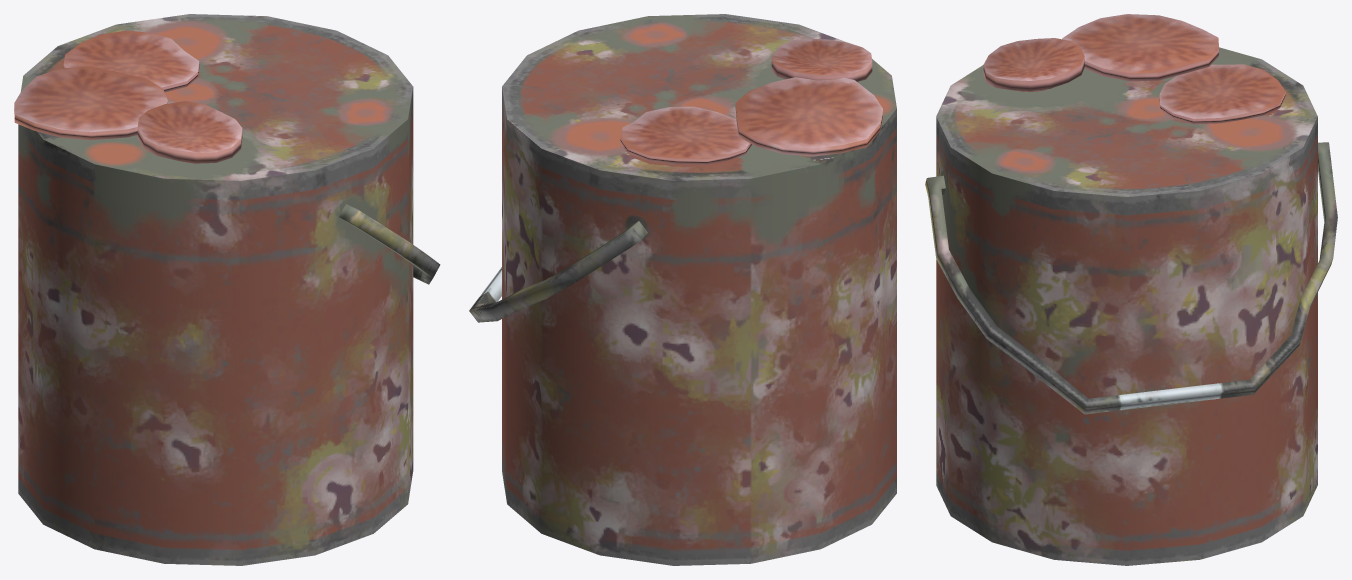
3 renders of one model, left to right at view 1: azimuth 30°, elevation 25°; view 2: azimuth 150°, elevation 25°; view 3: azimuth 270°, elevation 25°, orthographic. The views are drawn at different scales.
Parts seen in each view (by area): view 1: pCylinder17__Can01; view 2: pCylinder17__Can01; view 3: pCylinder17__Can01.
Boxes of the visible parts, box(x1,y1,x2,y2) form: pCylinder17__Can01: box(14, 14, 440, 565); pCylinder17__Can01: box(469, 14, 896, 565); pCylinder17__Can01: box(925, 14, 1337, 565).
Bounding box in the file's own units: 0.861 × 0.8841 × 0.8373.
Materials: 1 (1 with a texture image).
